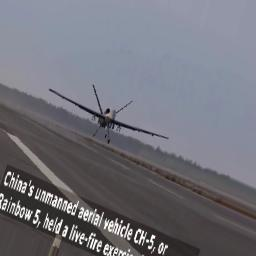wingloong: (54, 83, 175, 148)
